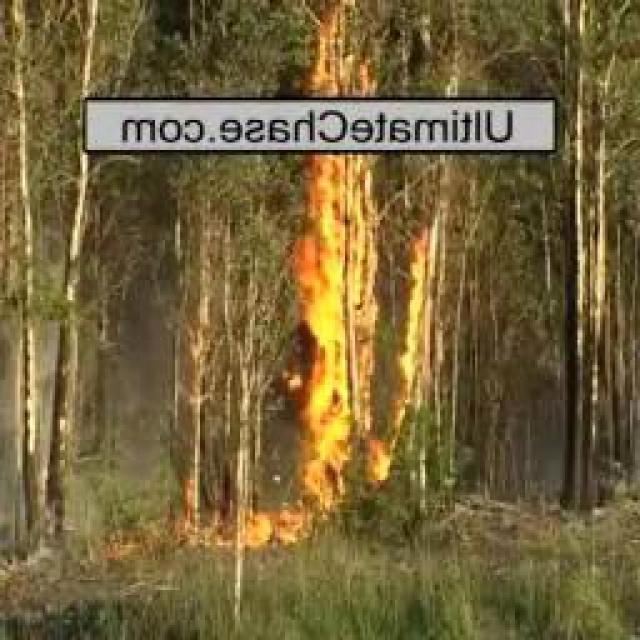Fire: (301, 161, 377, 492), (393, 230, 447, 428), (220, 520, 335, 546), (316, 22, 358, 93)
